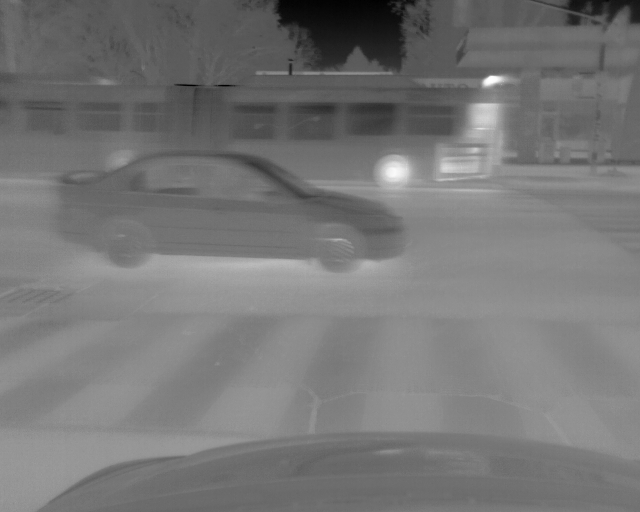car: (1, 70, 516, 190), (53, 148, 406, 274)
